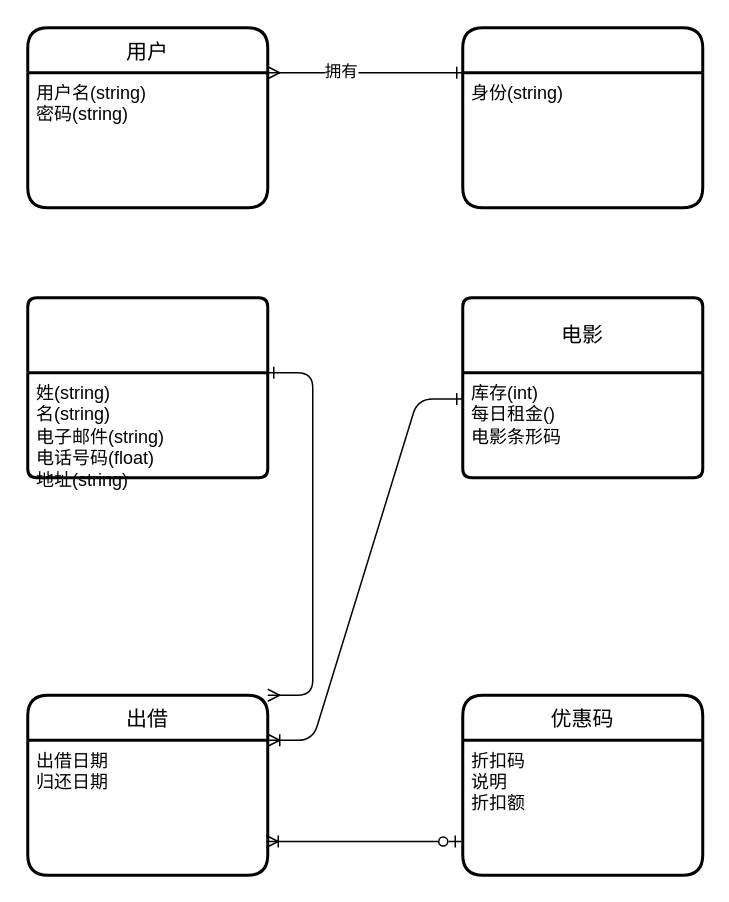
This 729x902 diagram has some shape labels left out. Each missing label, with the box of its shape:
角色: (460, 26, 704, 208)
顾客: (26, 296, 268, 478)
